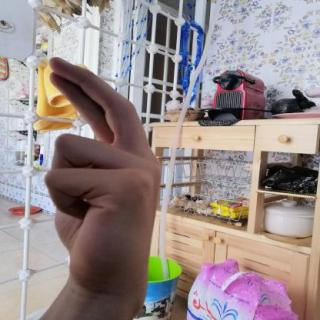ZAY: (36, 51, 170, 304)
